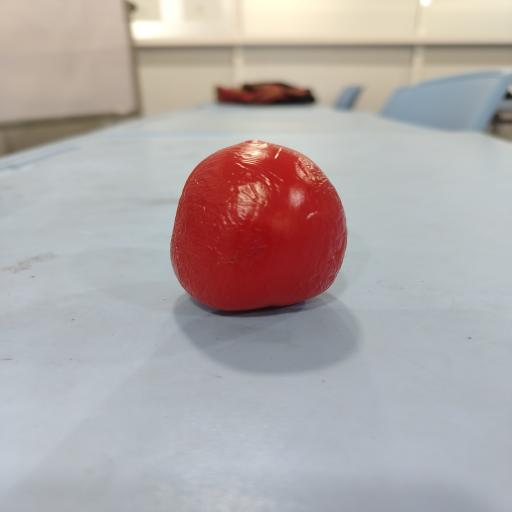spoiled: (171, 140, 347, 310)
